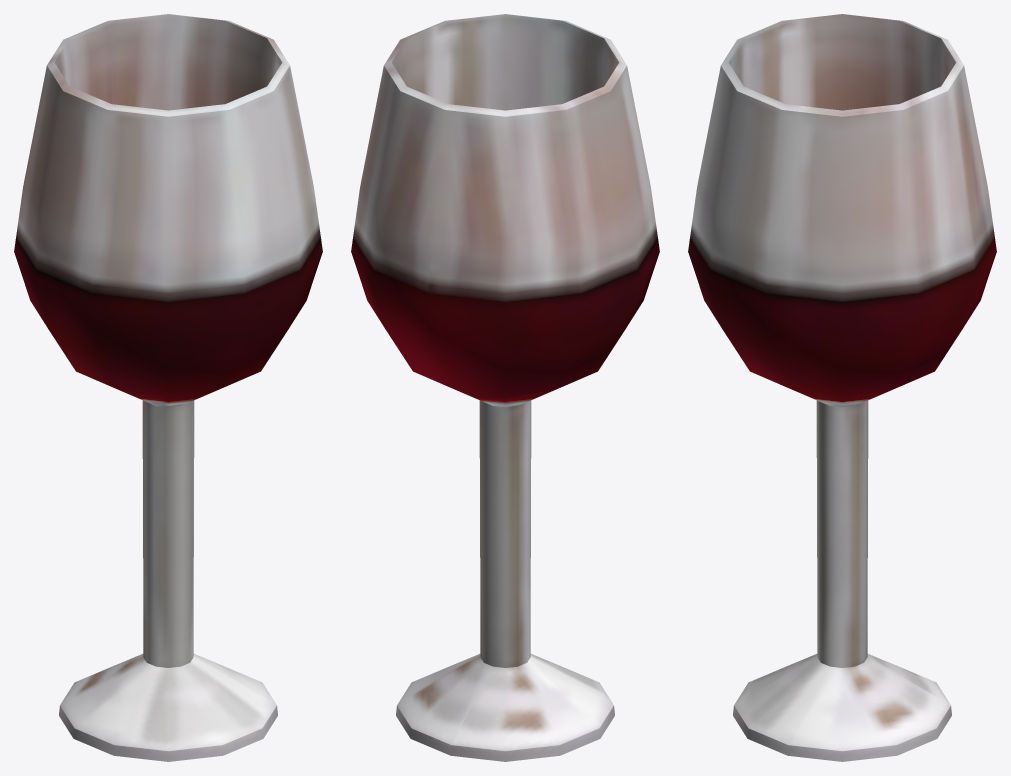
Rendered from PiErSenGongYu_01_gaojiaobei_01.FBX.
The picture shows the model from 3 angles, left to right: view 1: azimuth 30°, elevation 25°; view 2: azimuth 150°, elevation 25°; view 3: azimuth 270°, elevation 25°; orthographic projection.
Parts seen in each view (by area): view 1: PiErSenDeGongYu_gaojiaobei_01; view 2: PiErSenDeGongYu_gaojiaobei_01; view 3: PiErSenDeGongYu_gaojiaobei_01.
Part boxes in pixels (box(x1,y1,x2,y2)): PiErSenDeGongYu_gaojiaobei_01: box(14, 14, 322, 761); PiErSenDeGongYu_gaojiaobei_01: box(351, 14, 659, 761); PiErSenDeGongYu_gaojiaobei_01: box(688, 14, 996, 761).
Size of the model in its own units: 29.34 by 68.47 by 29.34.
